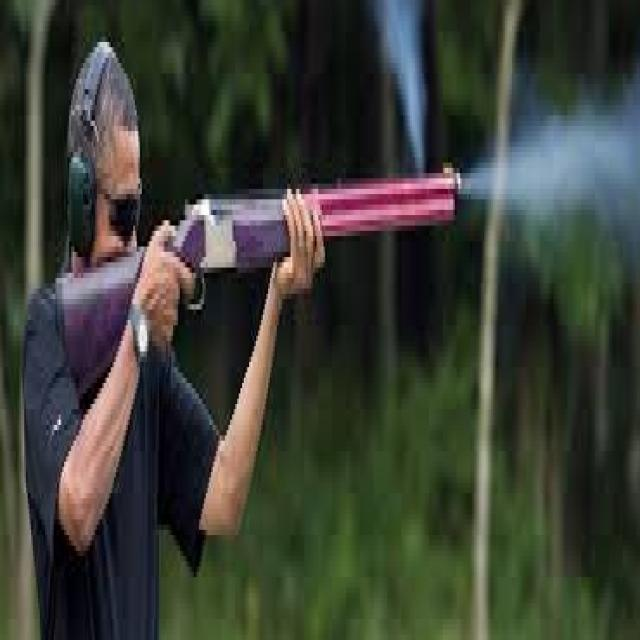gun: (50, 105, 482, 430)
